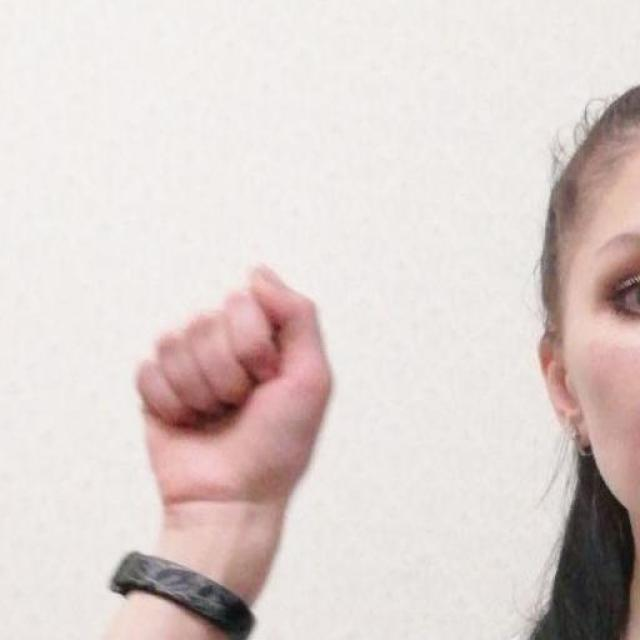hand: (134, 260, 336, 510)
